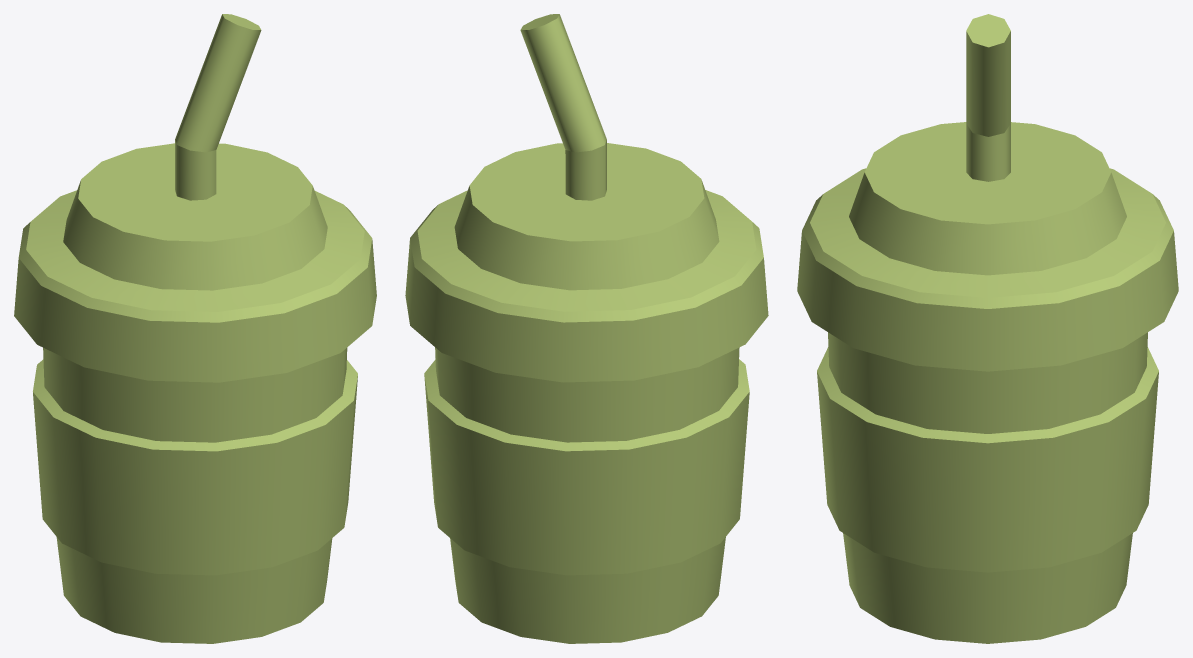
Rendered from pizza_drink.glb.
3 renders of one model, left to right at view 1: azimuth 30°, elevation 25°; view 2: azimuth 150°, elevation 25°; view 3: azimuth 270°, elevation 25°, orthographic. The views are drawn at different scales.
Parts seen in each view (by area): view 1: drink; view 2: drink; view 3: drink.
Boxes of the visible parts, x1,y1,x2,y2 form: drink: [14, 14, 376, 643]; drink: [405, 14, 768, 643]; drink: [797, 14, 1178, 643].
Size of the model in its own units: 0.894 by 1.52 by 0.894.
